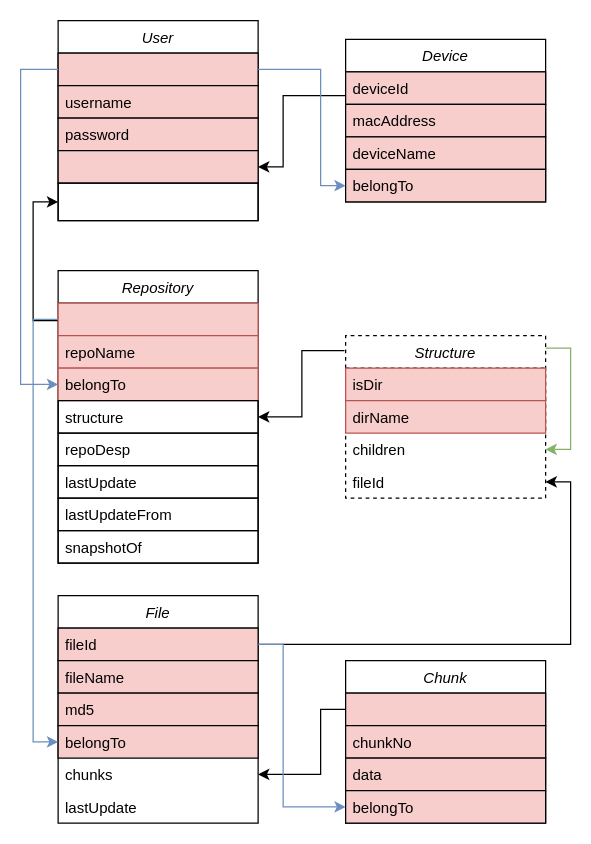
Some shapes in this 591 by 844 pixel diagram are drawn without their labels. Here are the shapes that lost their labels. From the top down, the centre of each, then its label:
(157,69): userId
(157,166): devices
(157,201): repositories
(157,319): repoId
(445,709): chunkId
